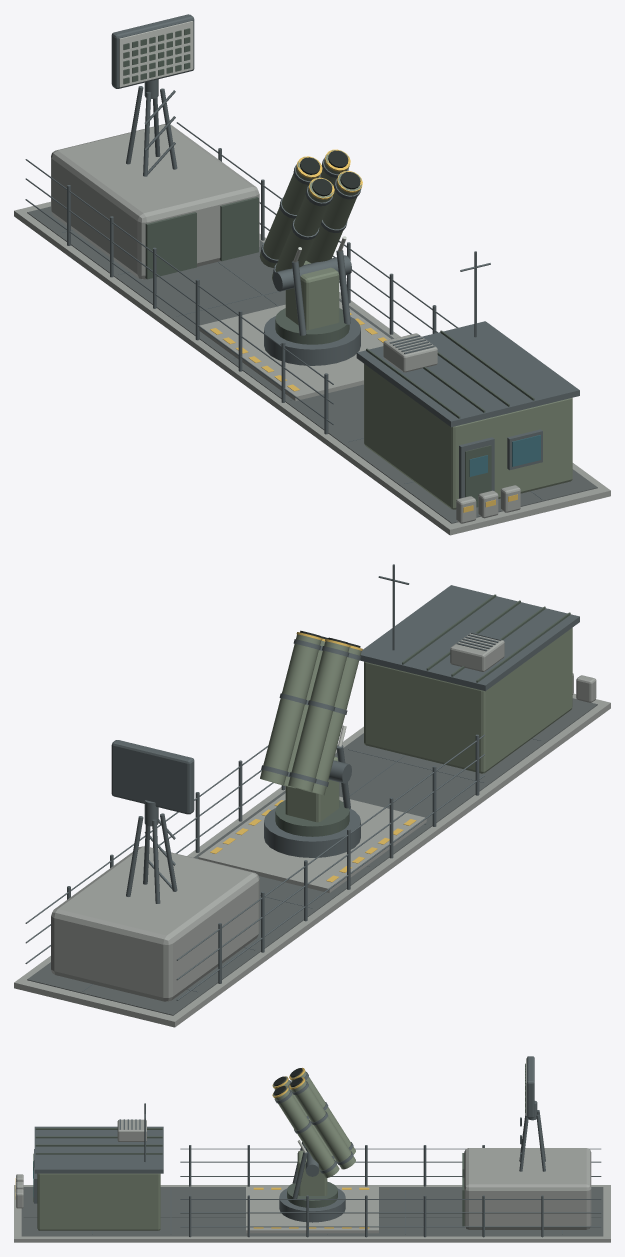
The model's file is military_1x4.glb.
The picture shows the model from 3 angles, top to bottom: view 1: azimuth 30°, elevation 25°; view 2: azimuth 150°, elevation 25°; view 3: azimuth 270°, elevation 25°; orthographic projection. The views are drawn at different scales.
Parts seen in each view (by area): view 1: military_1x4_foundation; view 2: military_1x4_foundation; view 3: military_1x4_foundation.
Boxes of the visible parts, box(x1,y1,x2,y2) form: military_1x4_foundation: box(14, 14, 610, 535); military_1x4_foundation: box(14, 564, 610, 1027); military_1x4_foundation: box(14, 1056, 610, 1242).
Bounding box in the file's own units: 6.5 × 8.3 × 30.5.
